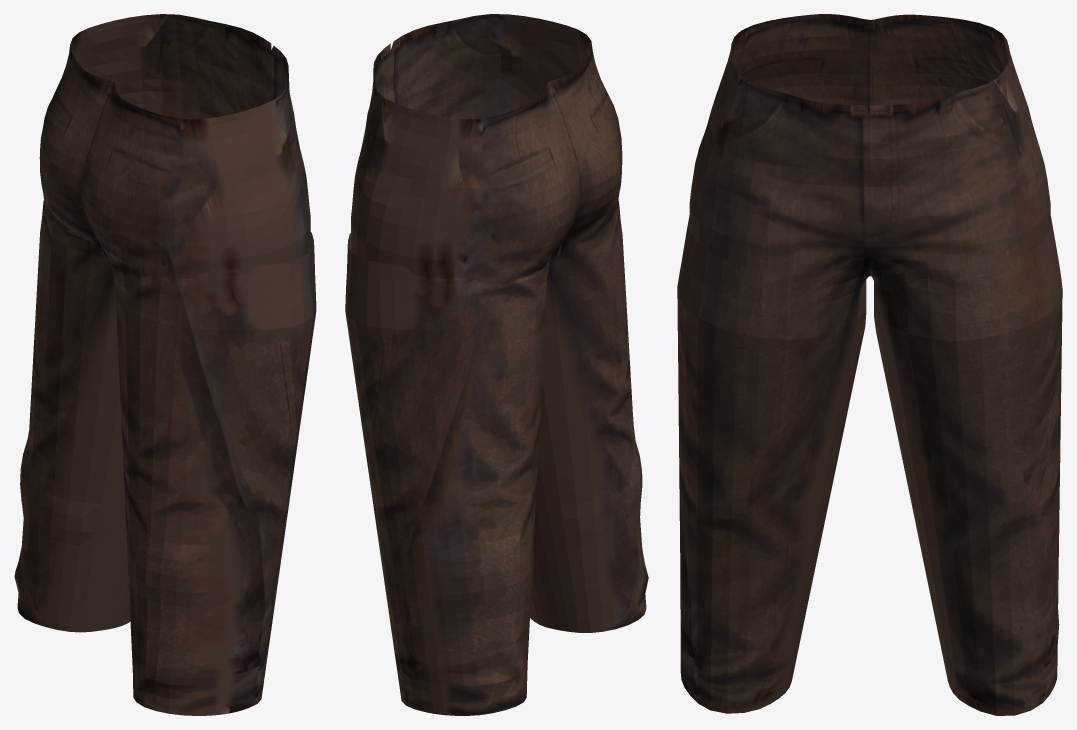
File: bold_cowboy_made_trousers.glb
3 views of the same model, side by side, from view 1: azimuth 30°, elevation 25°; view 2: azimuth 150°, elevation 25°; view 3: azimuth 270°, elevation 25° (orthographic). The views are drawn at different scales.
Parts seen in each view (by area): view 1: trousers; view 2: trousers; view 3: trousers.
Boxes of the visible parts, left/top/right/bottom form: trousers: left=14, top=14, right=316, bottom=715; trousers: left=345, top=14, right=648, bottom=715; trousers: left=677, top=14, right=1062, bottom=715.
Size of the model in its own units: 0.172 by 0.4869 by 0.2606.
1 material, 1 textured.
